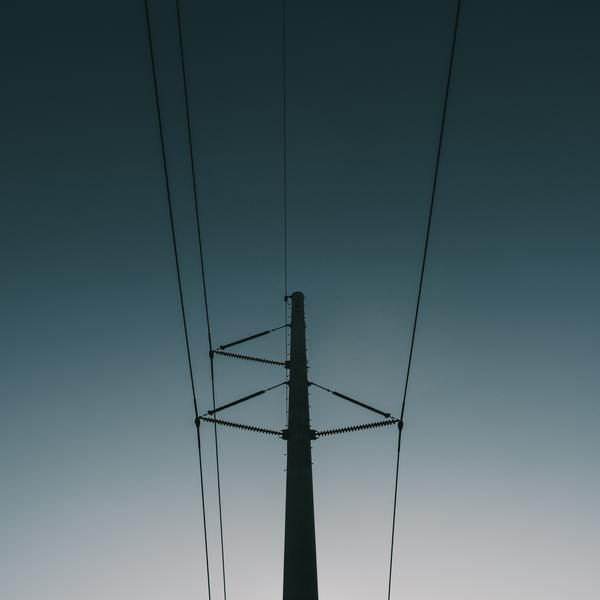utility_pole: (185, 277, 413, 474)
